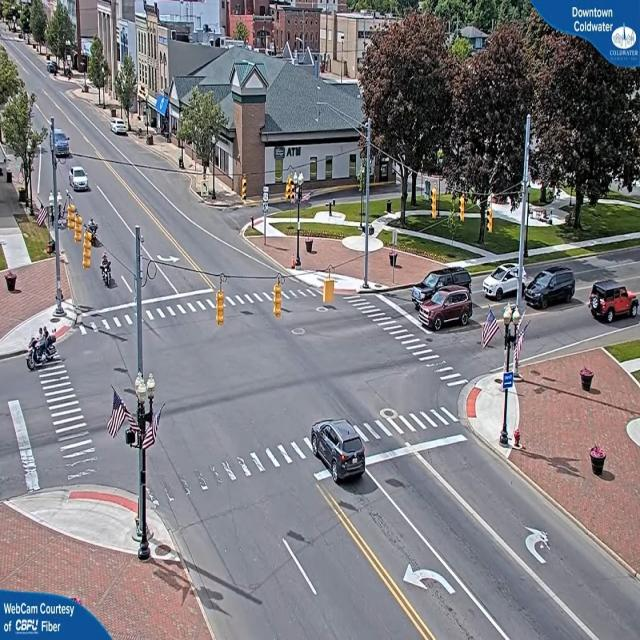car: (310, 419, 368, 487), (420, 284, 473, 330), (524, 264, 576, 309), (590, 279, 638, 325), (412, 266, 472, 300), (484, 264, 520, 300), (70, 165, 91, 191), (52, 131, 71, 158), (112, 120, 130, 138)
motorbike: (24, 327, 67, 370), (86, 211, 100, 249), (103, 248, 112, 290)
